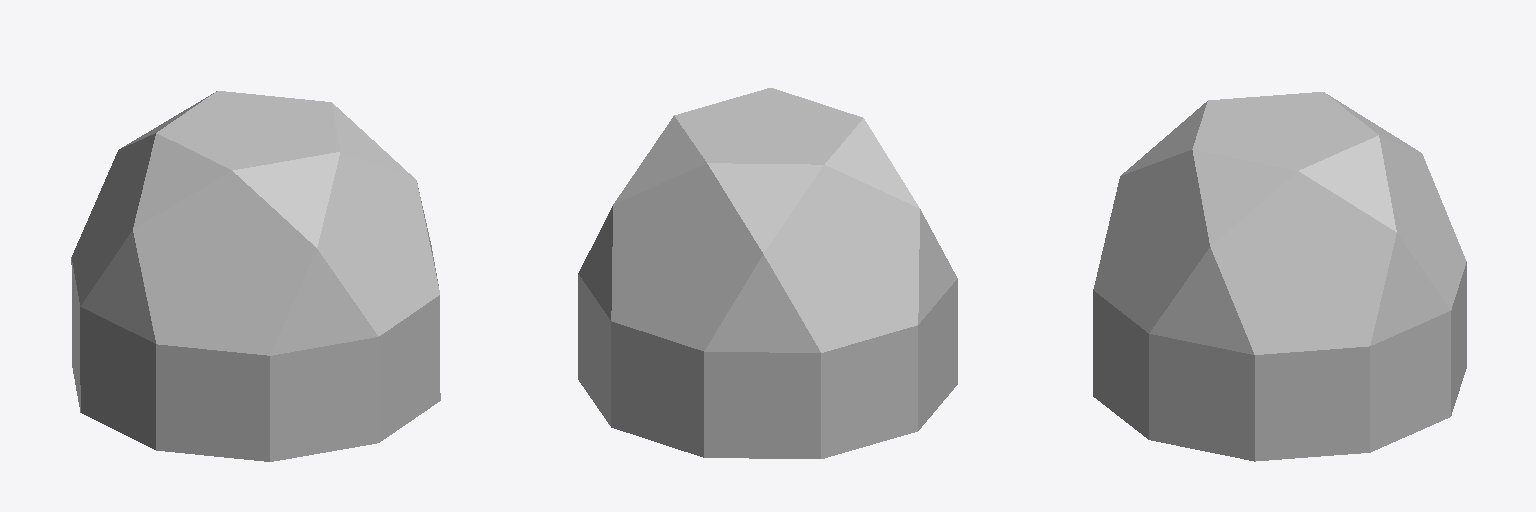
The model's file is ElongatedPentagonalrotunds.obj.
3 renders of one model, left to right at view 1: azimuth 30°, elevation 25°; view 2: azimuth 150°, elevation 25°; view 3: azimuth 270°, elevation 25°, orthographic.
Parts seen in each view (by area): view 1: ElongatedPentagonalRotunds; view 2: ElongatedPentagonalRotunds; view 3: ElongatedPentagonalRotunds.
Part boxes in pixels (left/top/right/bottom): ElongatedPentagonalRotunds: left=71, top=91, right=440, bottom=461; ElongatedPentagonalRotunds: left=578, top=88, right=957, bottom=458; ElongatedPentagonalRotunds: left=1093, top=92, right=1466, bottom=461.
Bounding box in the file's own units: 2.41 × 1.78 × 2.39.